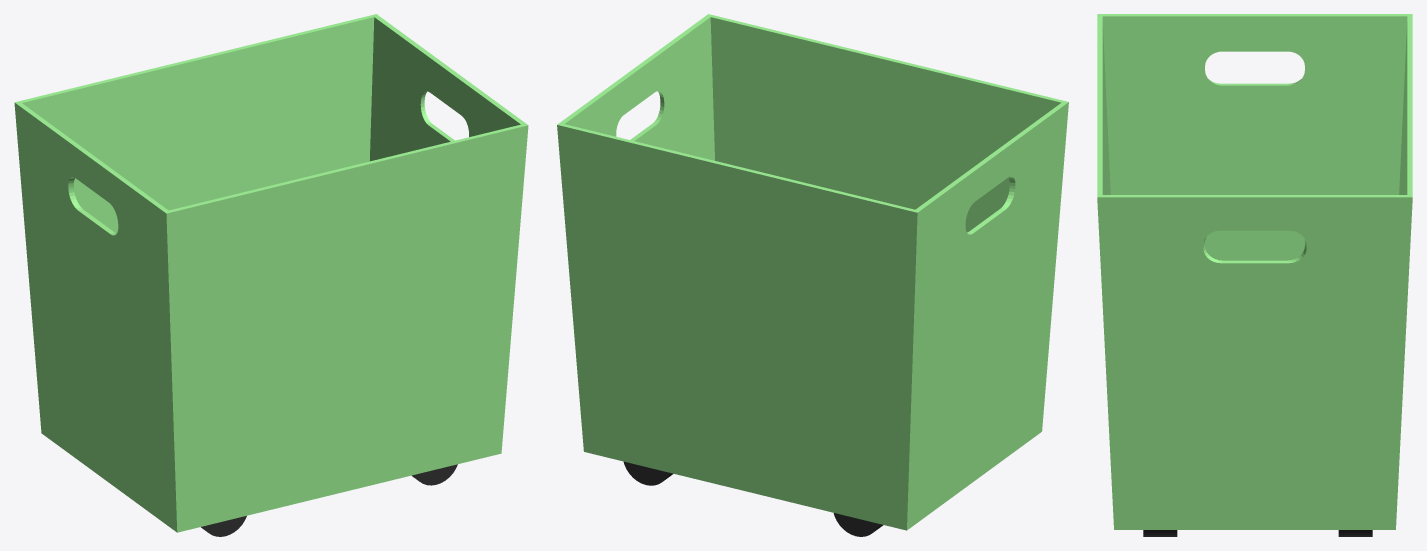
The model's file is throw_box_green.dae.
3 views of the same model, side by side, from view 1: azimuth 30°, elevation 25°; view 2: azimuth 150°, elevation 25°; view 3: azimuth 270°, elevation 25° (orthographic). The views are drawn at different scales.
Parts seen in each view (by area): view 1: Plane; view 2: Plane; view 3: Plane.
Boxes of the visible parts, <box> form: Plane: <box>14,14,528,536</box>; Plane: <box>557,14,1068,536</box>; Plane: <box>1097,14,1412,536</box>.
Bounding box in the file's own units: 0.385 × 0.28 × 0.3646.
